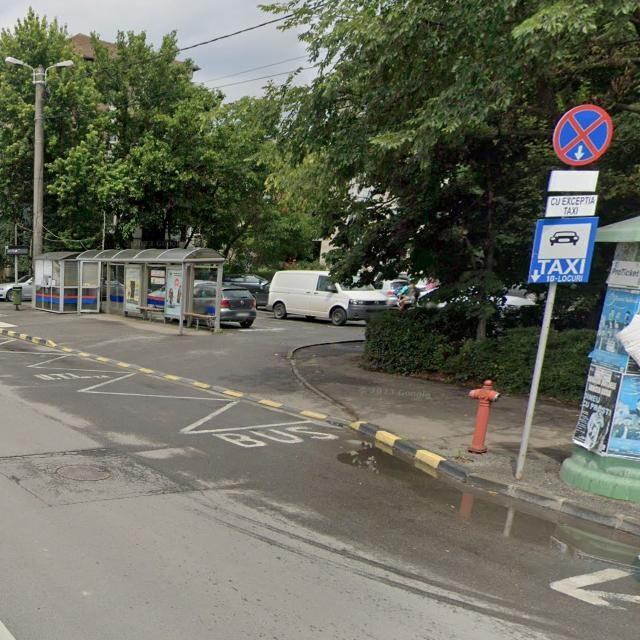forb_waiting: (552, 103, 613, 167)
